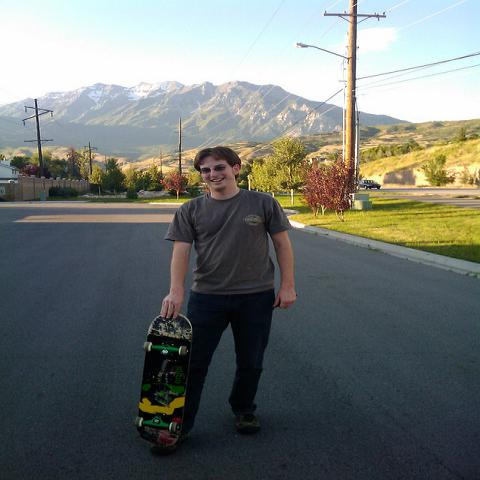car: (360, 180, 380, 189)
